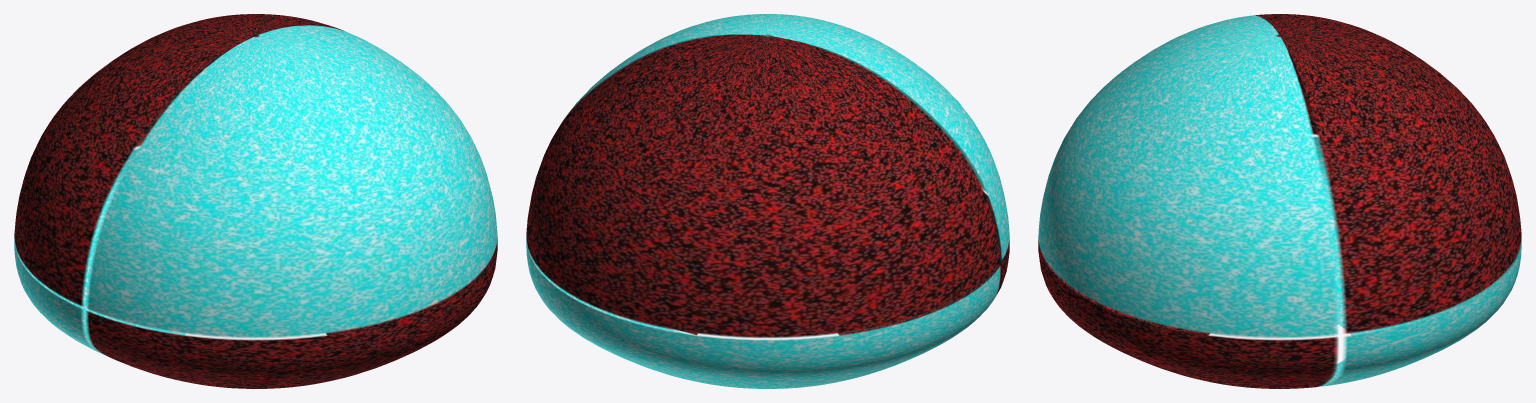
3 renders of one model, left to right at view 1: azimuth 30°, elevation 25°; view 2: azimuth 150°, elevation 25°; view 3: azimuth 270°, elevation 25°, orthographic.
Visible parts, largest first — view 1: SM_KuldraBackdrop_01_LOD0; view 2: SM_KuldraBackdrop_01_LOD0; view 3: SM_KuldraBackdrop_01_LOD0.
Boxes of the visible parts, x1,y1,x2,y2 form: SM_KuldraBackdrop_01_LOD0: (14, 14, 497, 388); SM_KuldraBackdrop_01_LOD0: (526, 14, 1009, 388); SM_KuldraBackdrop_01_LOD0: (1038, 14, 1521, 388).
Size of the model in its own units: 118 by 83.21 by 118.
Materials: 1 (1 with a texture image).
